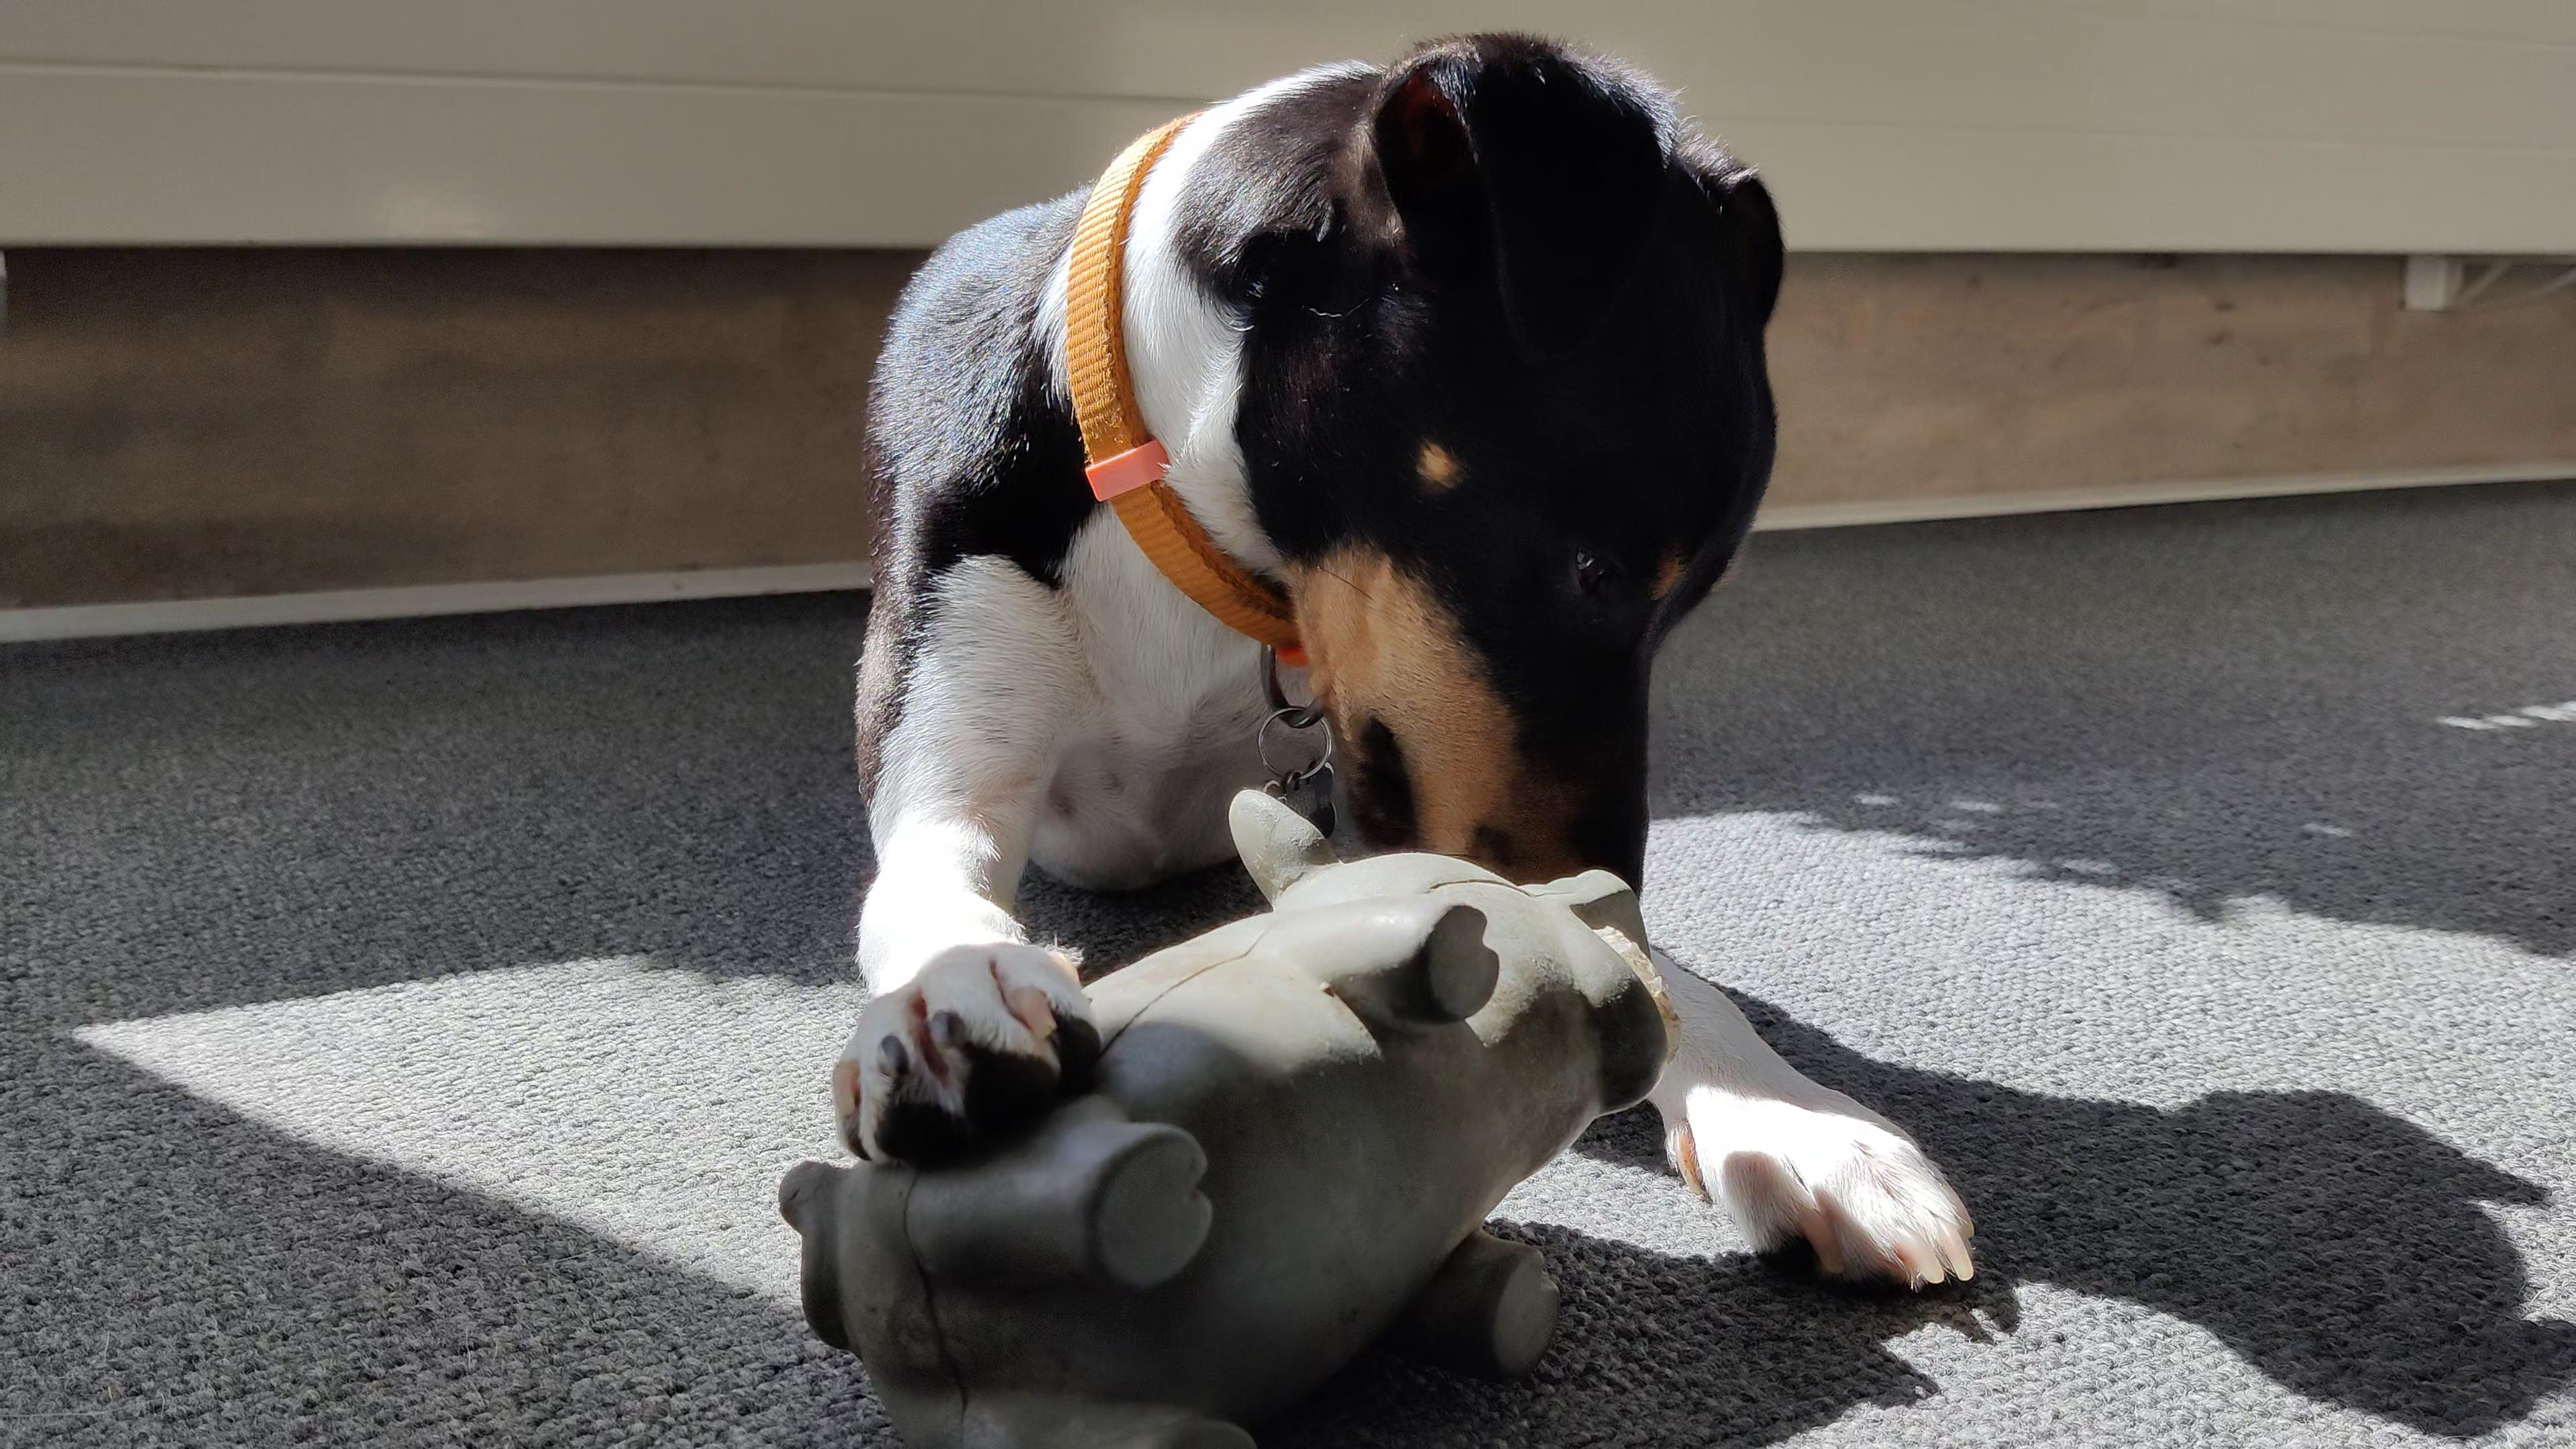Dog: (821, 30, 1980, 1302)
